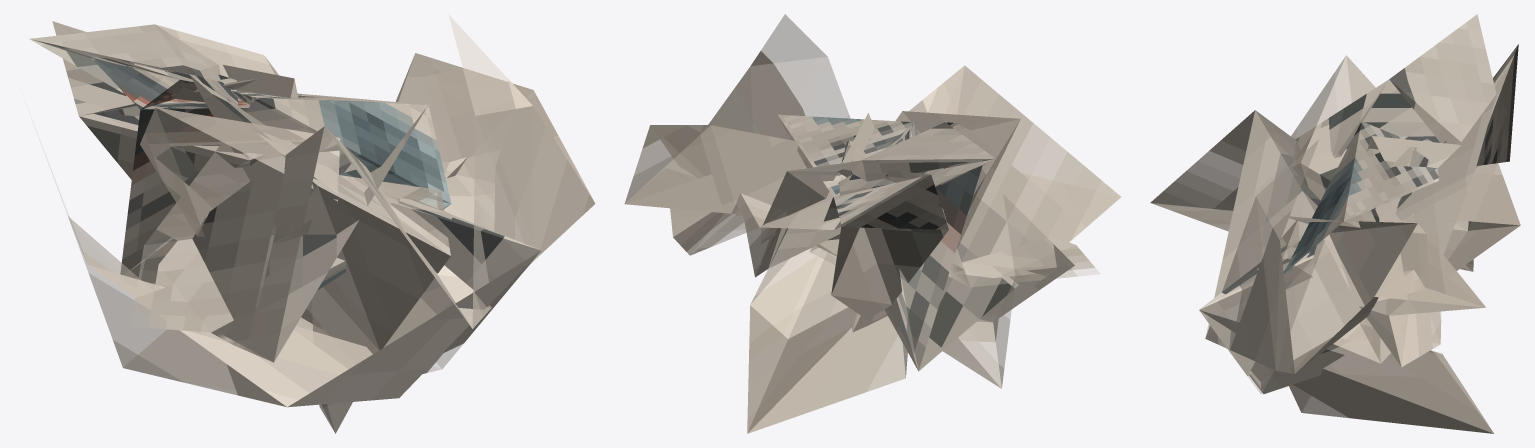
Rendered from paper.glb.
3 renders of one model, left to right at view 1: azimuth 30°, elevation 25°; view 2: azimuth 150°, elevation 25°; view 3: azimuth 270°, elevation 25°, orthographic. The views are drawn at different scales.
Visible parts, largest first — view 1: Plane; view 2: Plane; view 3: Plane.
Part boxes in pixels (x1,y1,x2,y2): Plane: [29, 14, 595, 433]; Plane: [624, 14, 1120, 433]; Plane: [1150, 14, 1520, 433].
Size of the model in its own units: 0.5188 by 0.3997 by 0.4126.
Materials: 1 (1 with a texture image).
